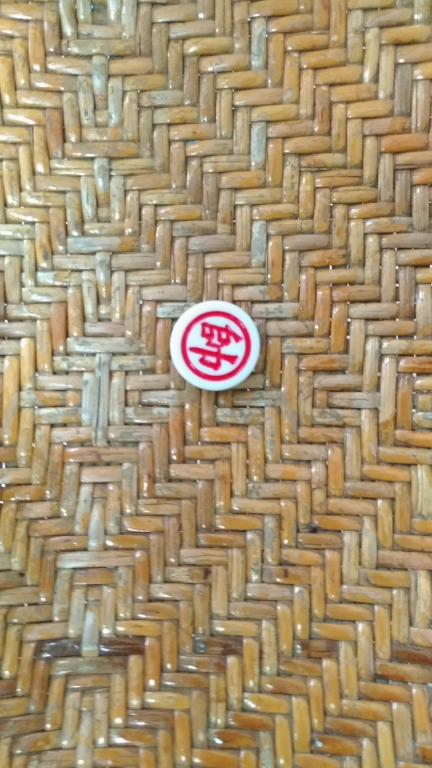r-king: (172, 296, 265, 395)
